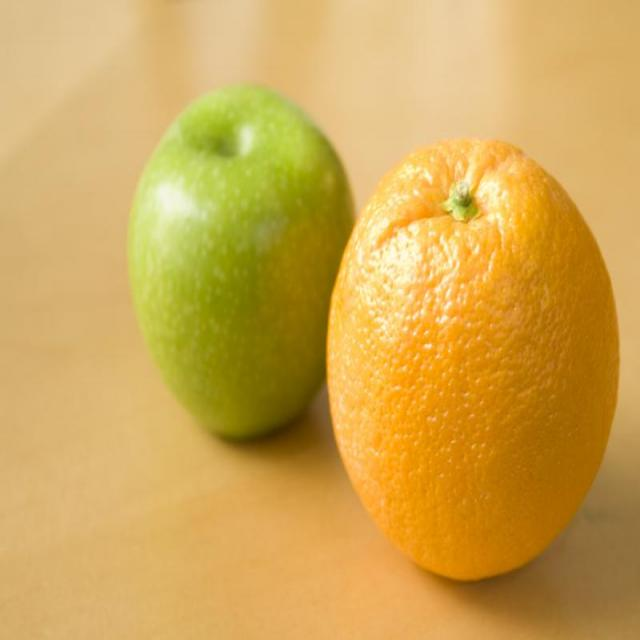Apple: (125, 83, 358, 474)
Orange: (326, 135, 626, 581)
